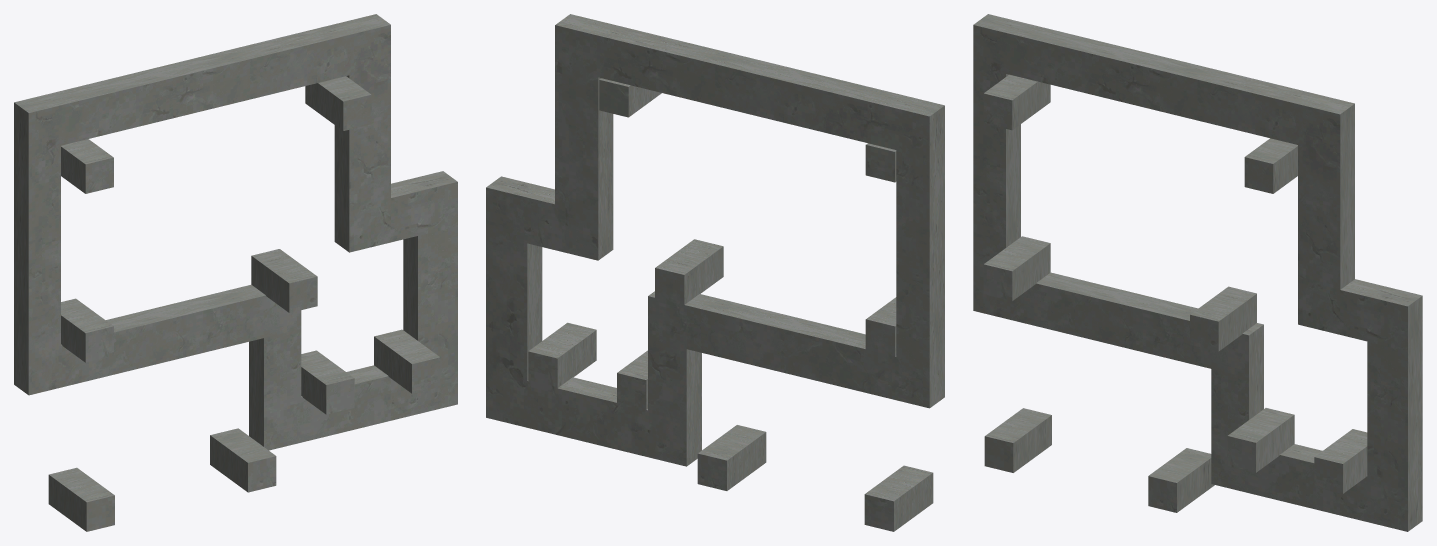
The model's file is huodong_fuben_603_mofachongwudian_diji01.obj.
The picture shows the model from 3 angles, left to right: view 1: azimuth 30°, elevation 25°; view 2: azimuth 150°, elevation 25°; view 3: azimuth 330°, elevation 25°; orthographic projection. The views are drawn at different scales.
Visible parts, largest first — view 1: Box01; view 2: Box01; view 3: Box01.
Part boxes in pixels (box(x1,y1,x2,y2)): Box01: box(14, 14, 457, 531); Box01: box(486, 14, 944, 531); Box01: box(973, 14, 1422, 531).
Size of the model in its own units: 272 by 249 by 41.73.
Materials: 1 (1 with a texture image).
